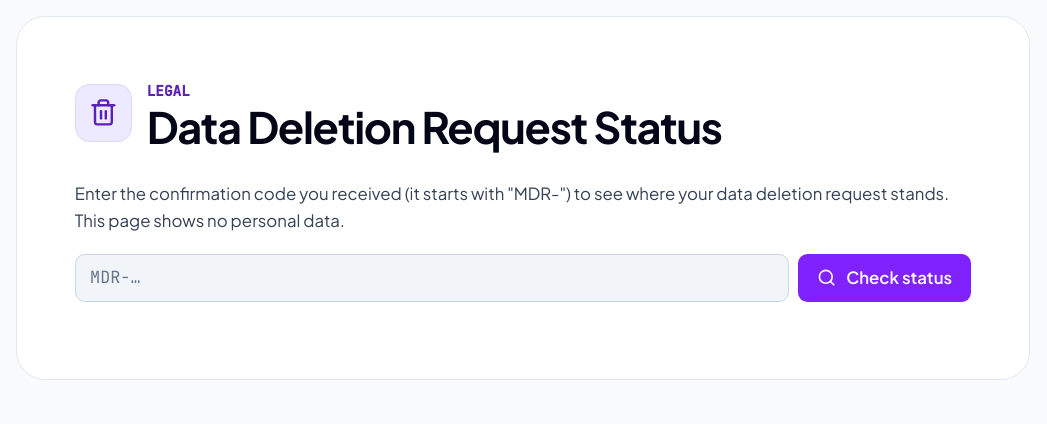
deletion status page › says so for an unknown code and for a failure
In the field named "Confirmation code": (432, 278) top-left (75, 254), bottom-right (789, 302), type "MDR-nope"
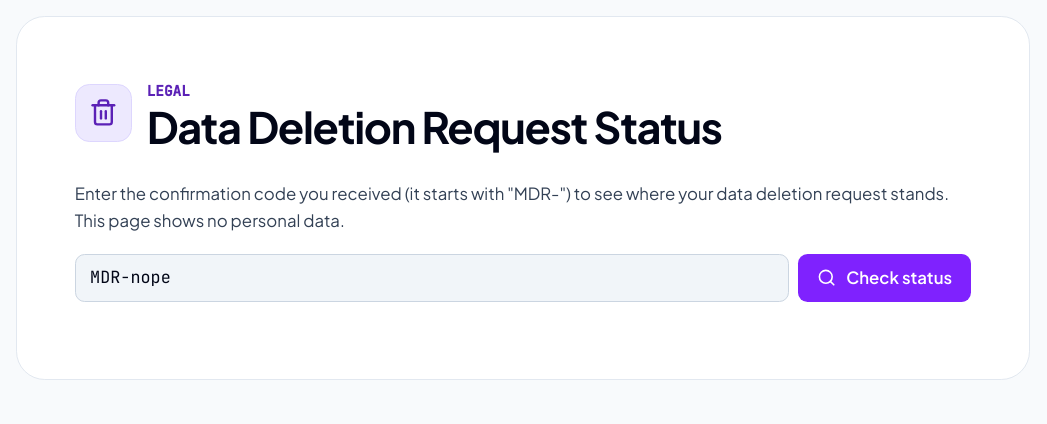
Click the button "Check status": (885, 278) top-left (798, 254), bottom-right (971, 302)
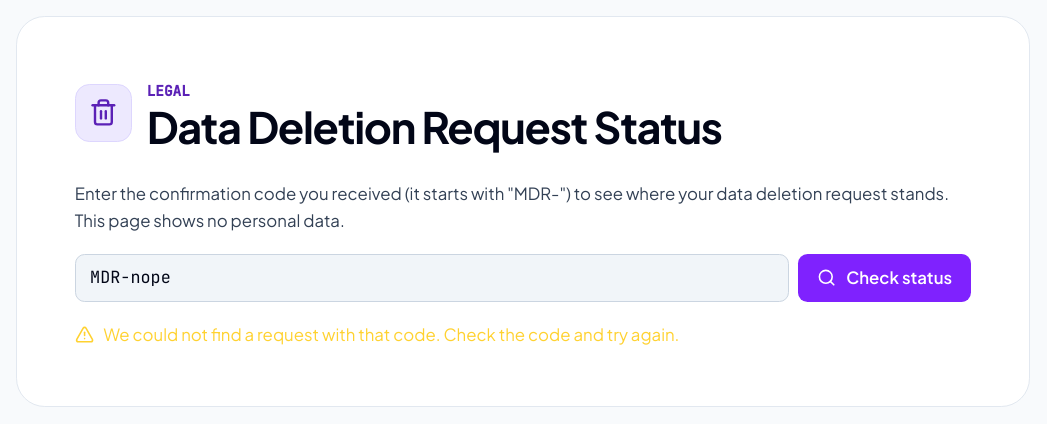
Expected: the text "could not find a request" is shown, top-left (104, 324), bottom-right (679, 345)
Click the button "Check status": (885, 278) top-left (798, 254), bottom-right (971, 302)
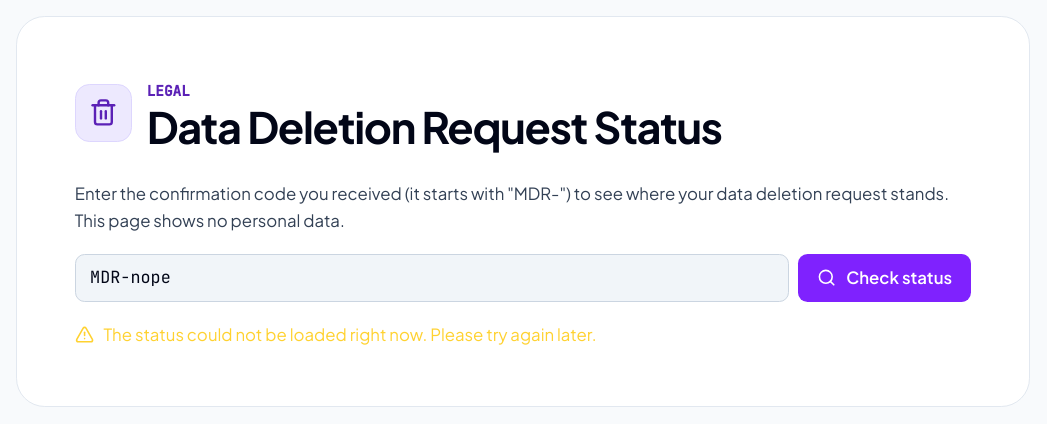
Expected: the text "could not be loaded right now" is shown, top-left (104, 324), bottom-right (597, 345)
